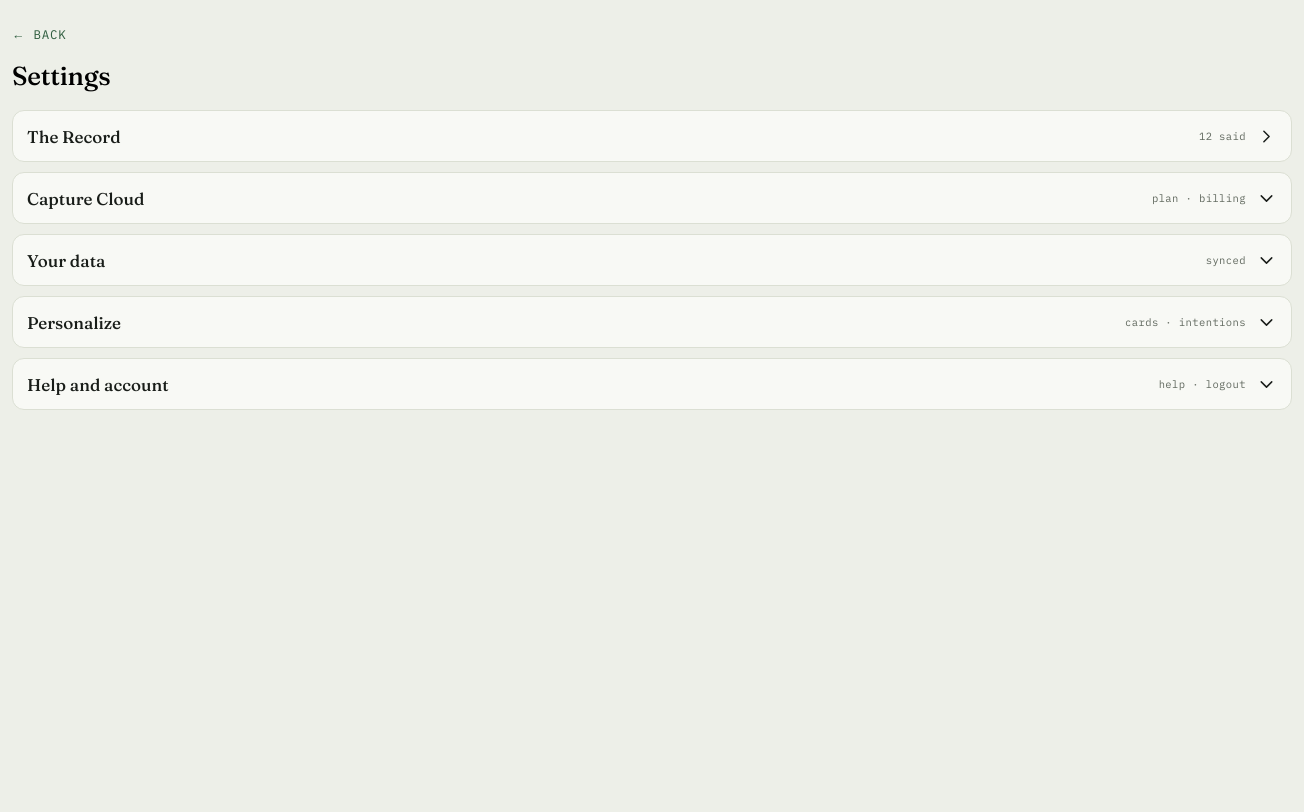
Test: SettingsScreen disclosures › offers the approved support contact without removing bug reporting or logout
Expected: the link "Contact support" is not shown
Click the button with aria-label "Show Help and account": point(98, 384) x1=12 y1=358 x2=1292 y2=410
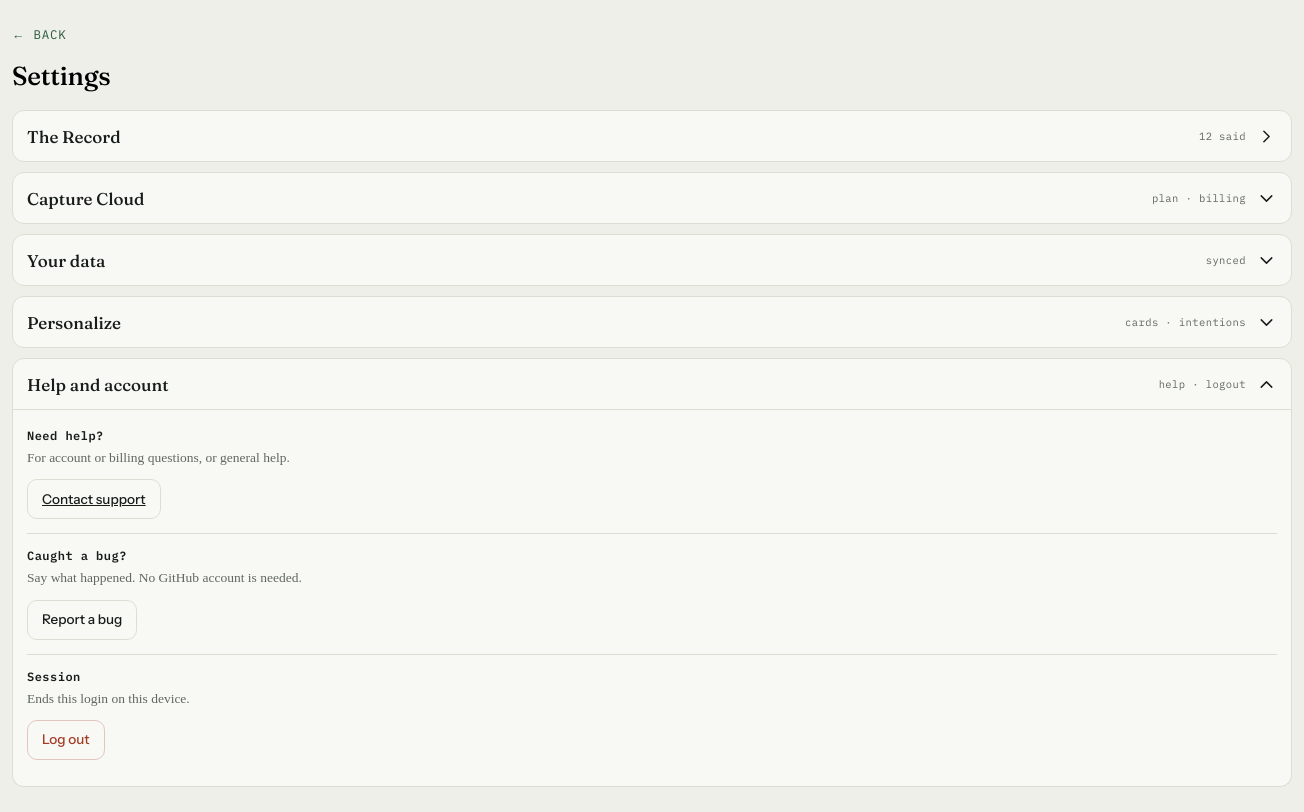
Expected: the text "For account or billing questions, or general help." is shown, x1=27 y1=450 x2=290 y2=465
Expected: the button "Report a bug" is shown, x1=27 y1=600 x2=137 y2=640
Expected: the button "Log out" is shown, x1=27 y1=720 x2=104 y2=760
